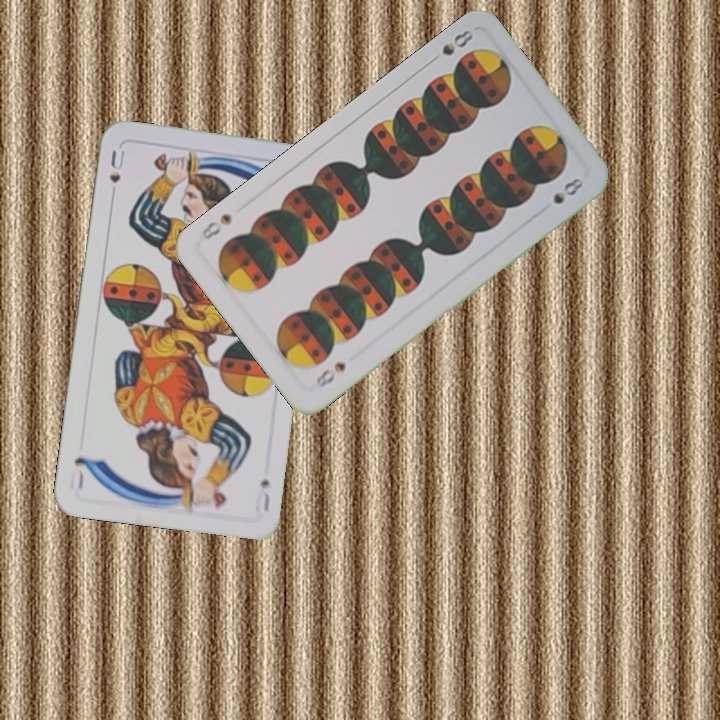S8: (424, 25, 476, 67), (309, 358, 348, 391)
SU: (105, 146, 127, 185), (251, 474, 272, 514)
